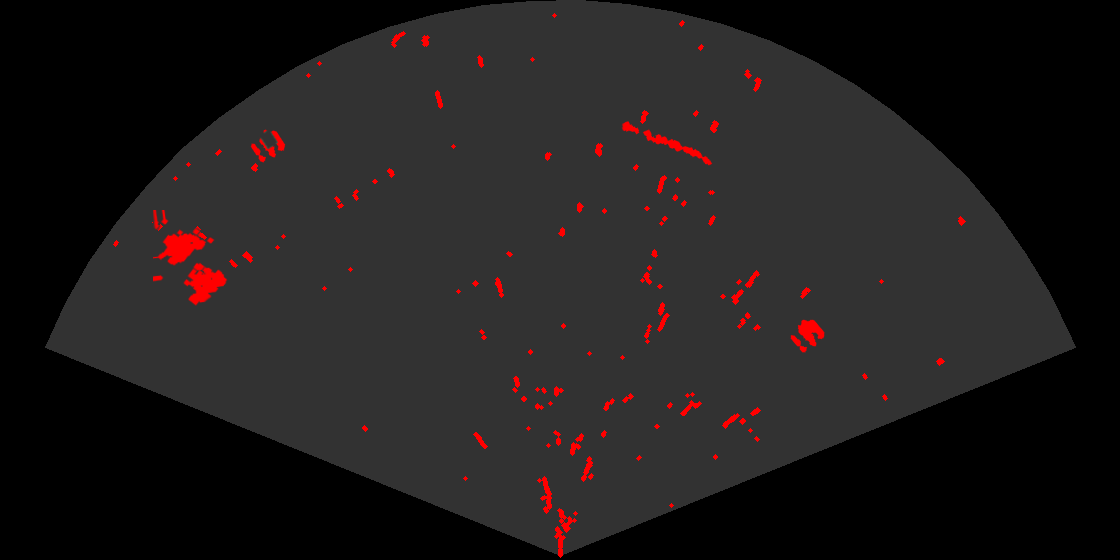ball: (249, 128, 287, 164), (789, 318, 826, 354)
cage: (153, 210, 229, 307)
chain: (620, 120, 714, 167)
